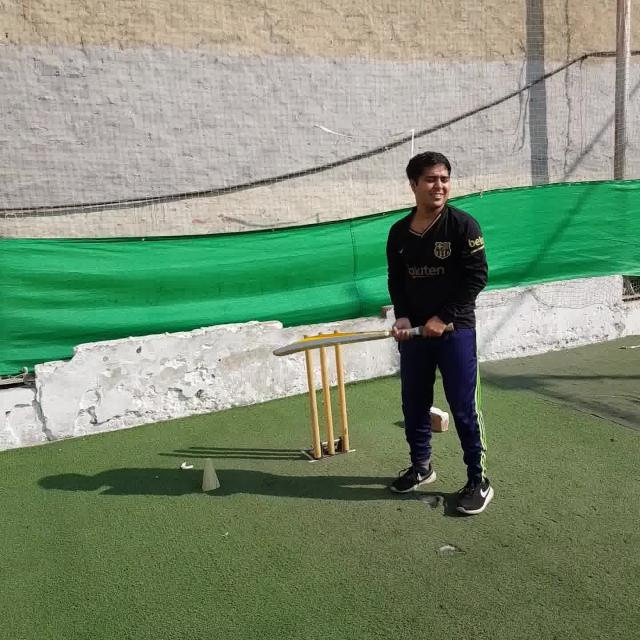bat: (273, 322, 456, 358)
